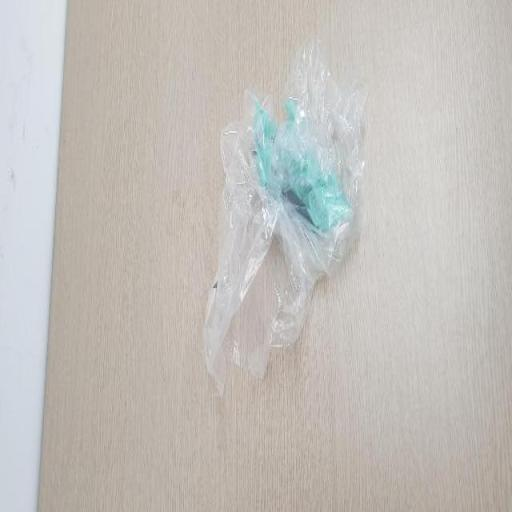plastic-bag: (200, 24, 374, 393)
